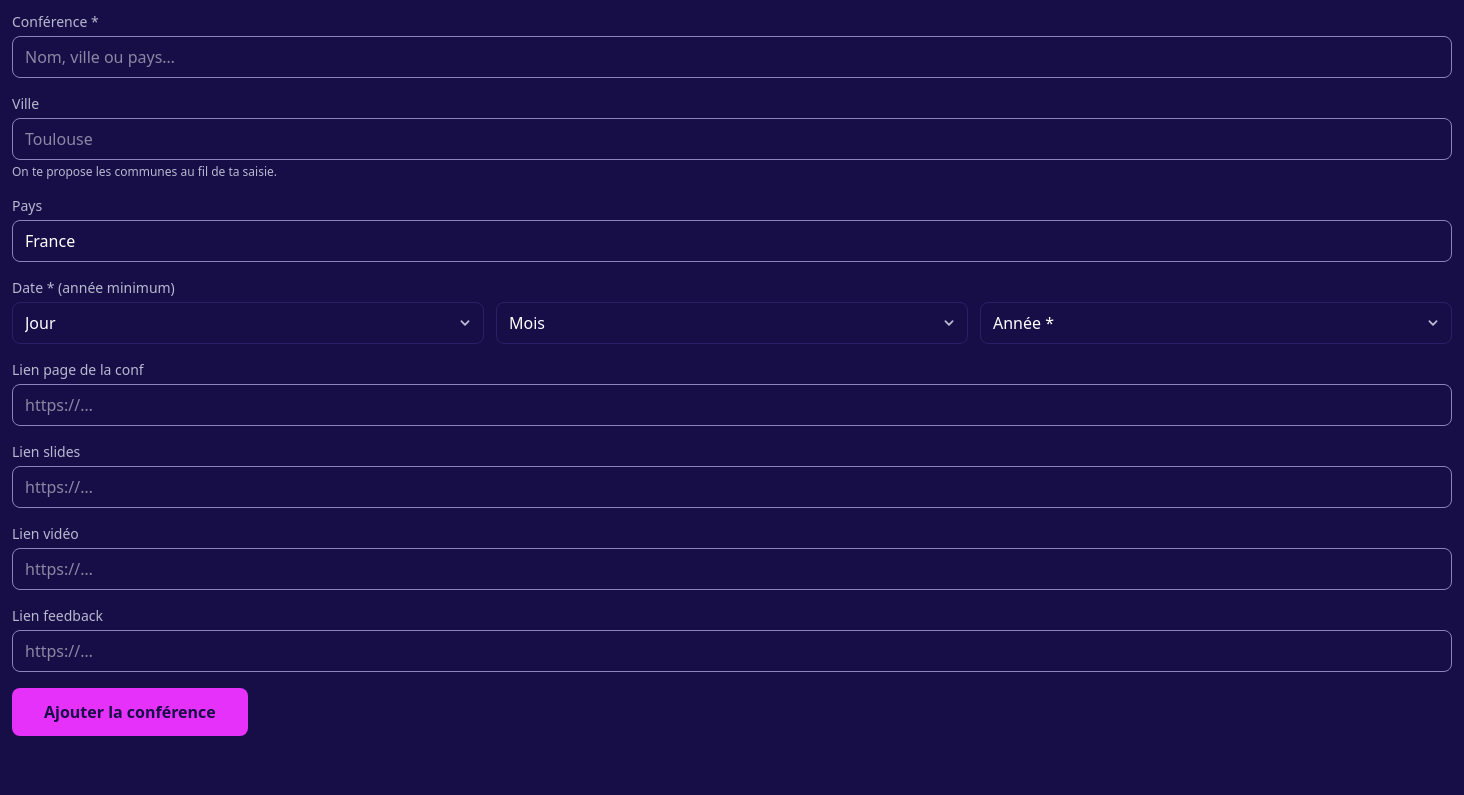
Test case: OccurrenceForm — toute erreur serveur est visible (anti échec silencieux) › affiche l'erreur de conférence
Select "2026" in the 3rd dropdown named "Année" at (1216, 323), box [980, 302, 1452, 344]
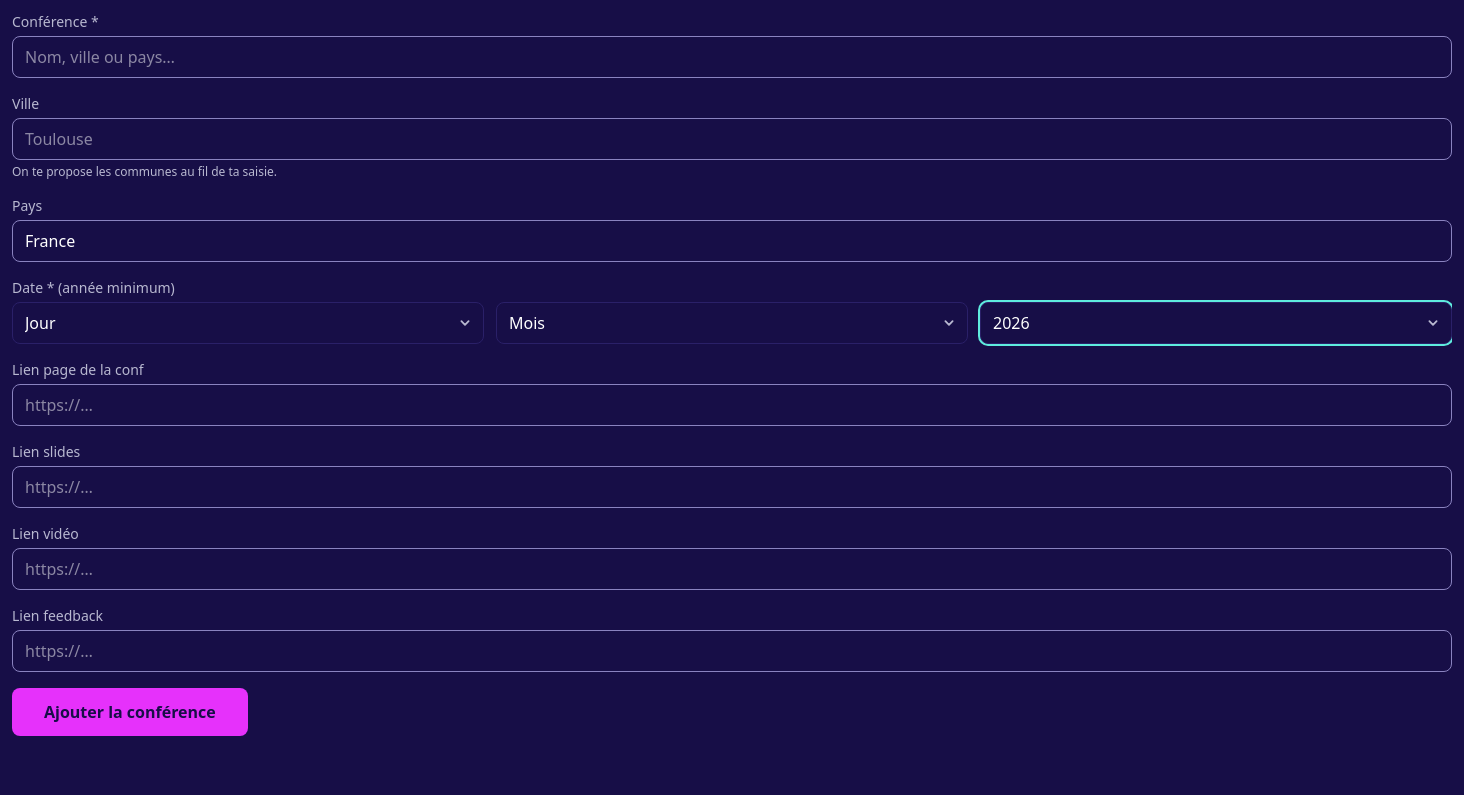
Click the button "Ajouter la conférence".
click(130, 712)  # box [12, 688, 248, 736]
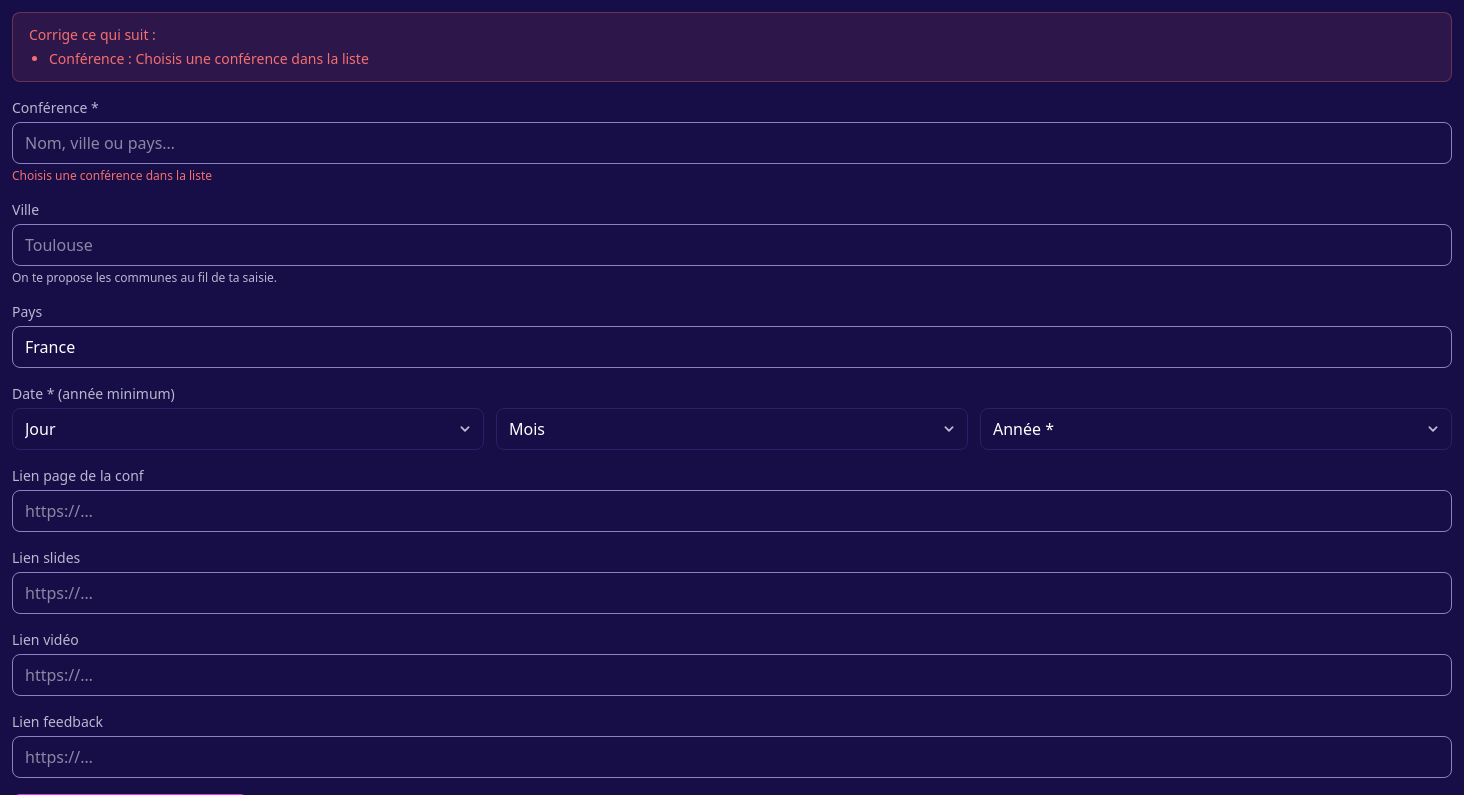
expect the text "Choisis une conférence dans la liste" is shown: met, box [12, 167, 212, 184]
